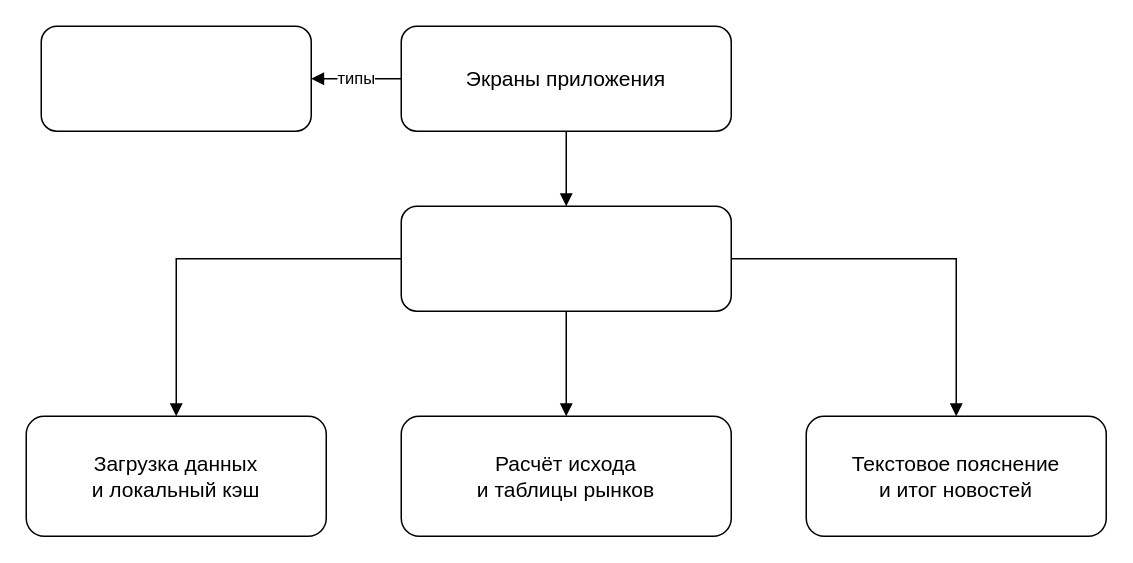
Some shapes in this 1133 by 563 pixel diagram are drawn without their labels. The centre of each missing label's shape, as x and y in pixels:
"Предметные типы" belongs at point 175,78.
"Службы приложения" belongs at point 565,258.
